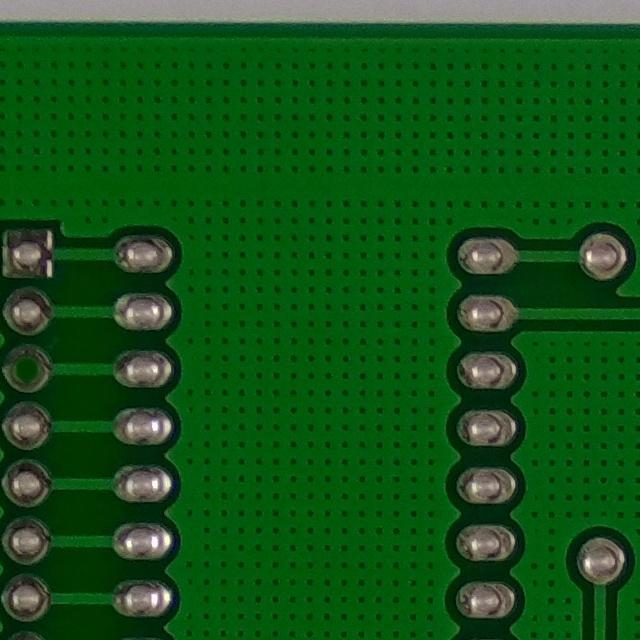missing_hole: (0, 334, 59, 396)
